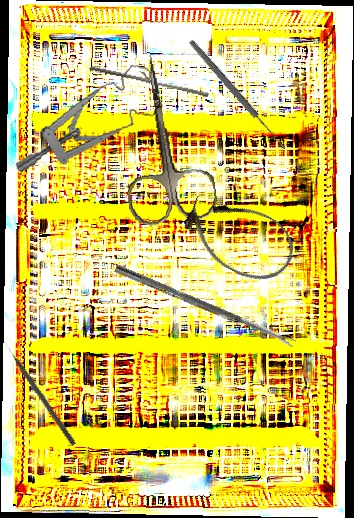Cannula: (174, 182, 304, 293)
Iris Scissors: (108, 48, 220, 229)
Pusher: (1, 338, 78, 447), (88, 65, 210, 98)
Speculum: (1, 60, 171, 175)
Surgical Spoon: (113, 264, 297, 349), (187, 38, 288, 152)
